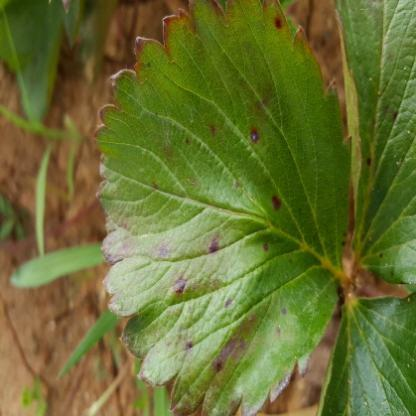Strawberry_Leaf_Spot: (91, 0, 352, 415)
